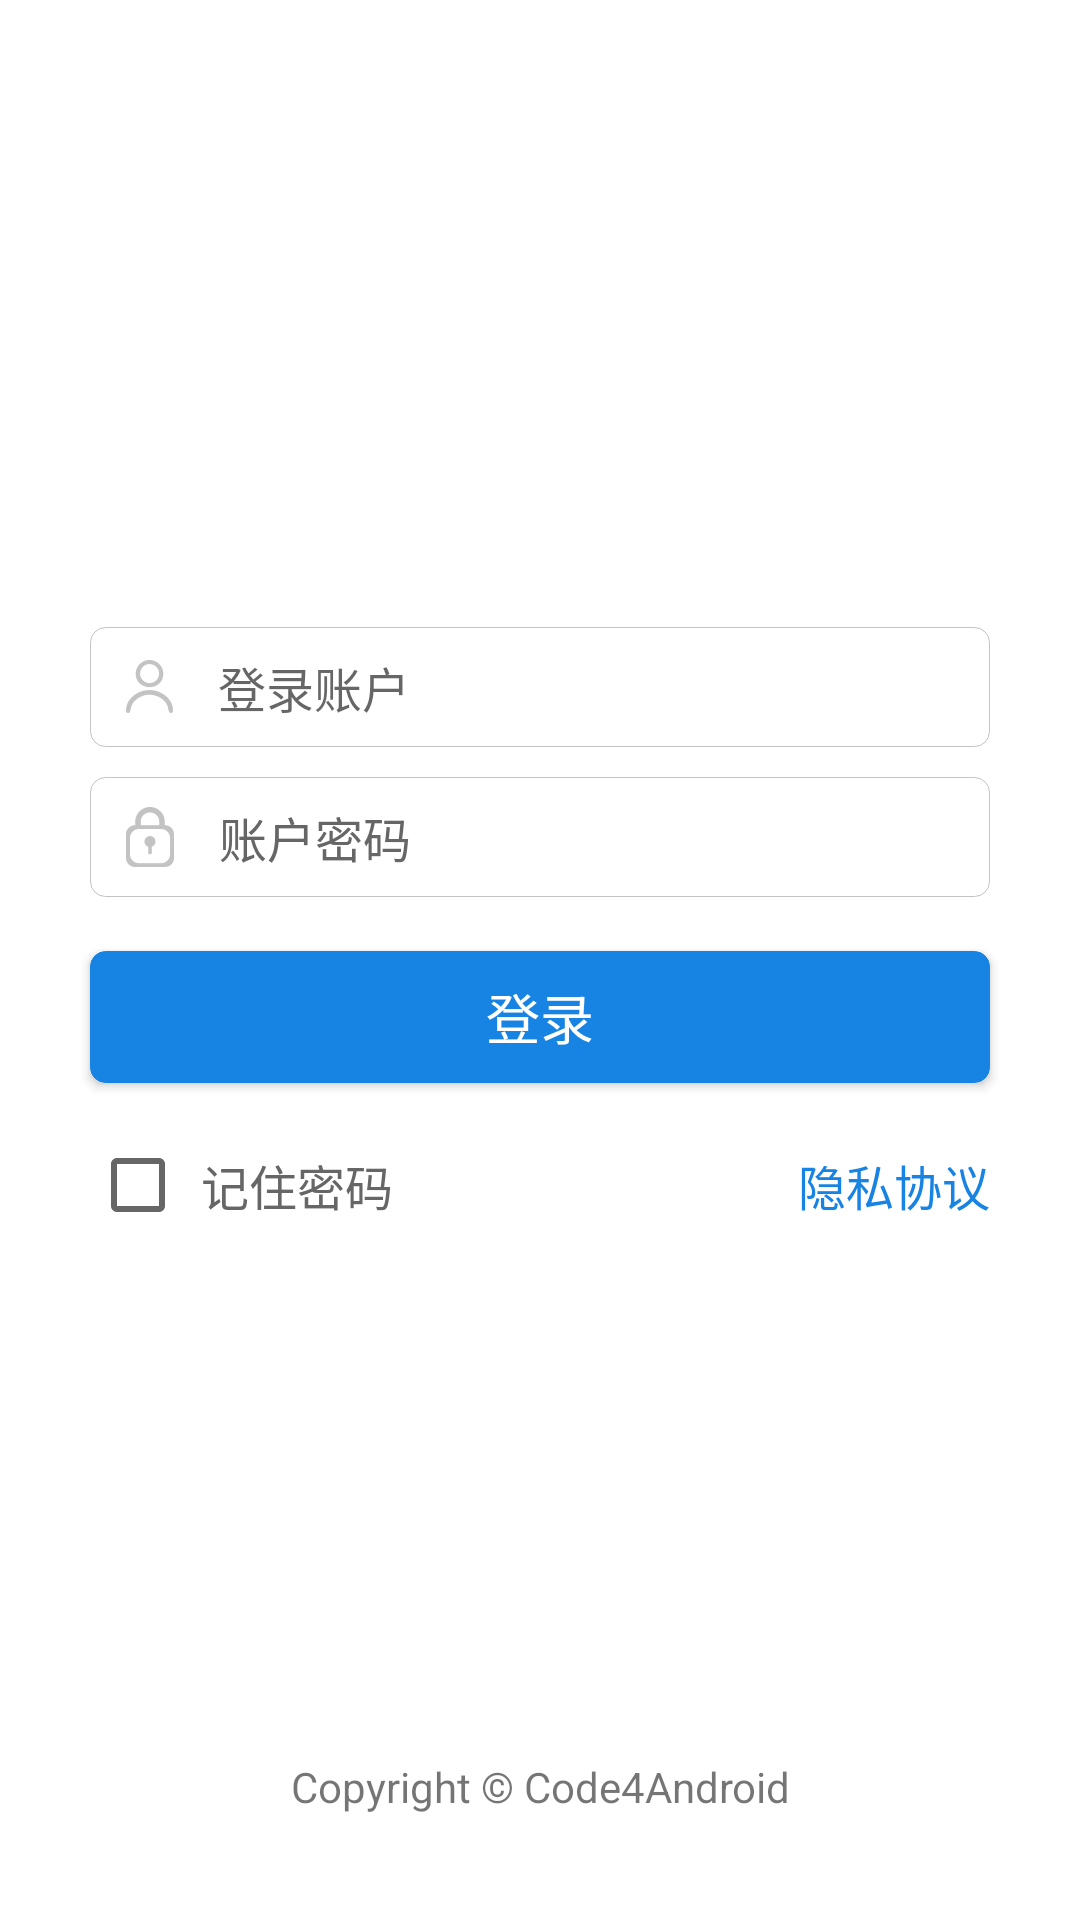

Icon bounding boxes for this 1080w x 1920h phone screenshot, format (x1, y1, x2, y2):
password: (126, 807, 174, 867)
username: (126, 660, 173, 713)
